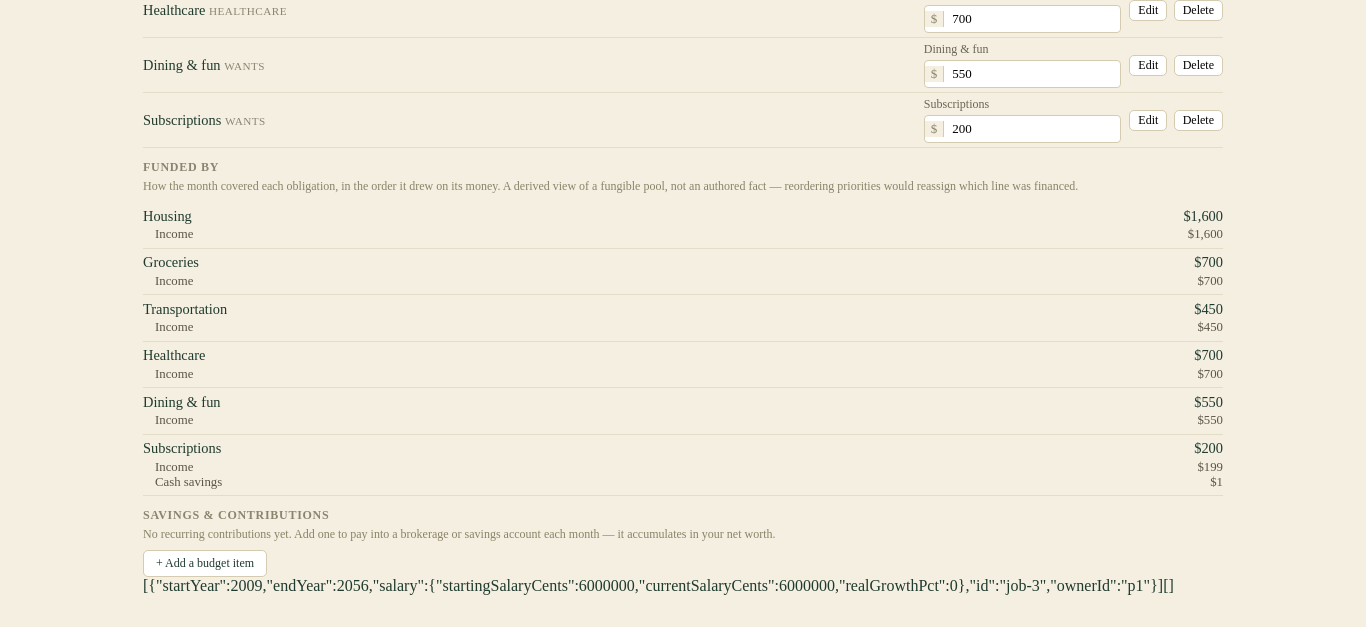
Test case: BaseAdjustmentsPanel — add / edit / delete budget items › adds a contribution line into an account, shown under Savings & contributions
(page scrolled)
expect the text "No recurring contributions yet" is shown: met, box [143,528,776,542]
Click the button "+ Add a budget item".
click(205, 564)  # box [143,550,267,578]
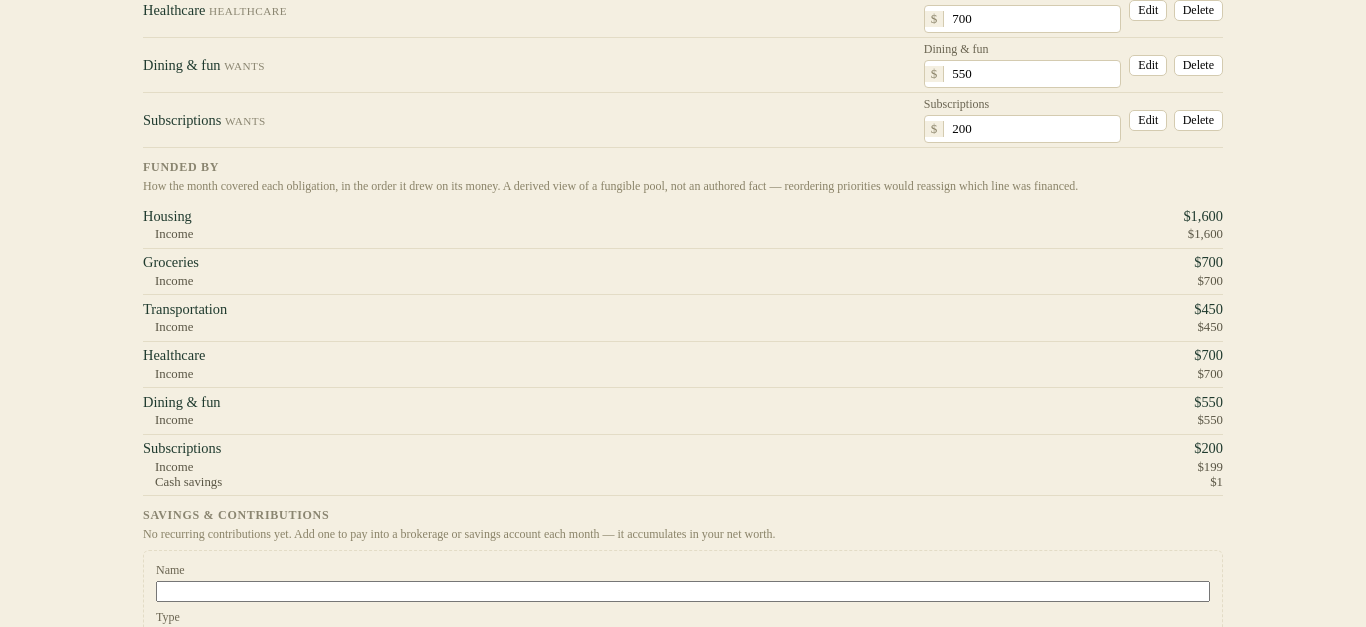
Type "Auto-invest" into the field labelled "Name".
click(683, 592); type("Auto-invest")  # box [156,582,1210,602]
(page scrolled)
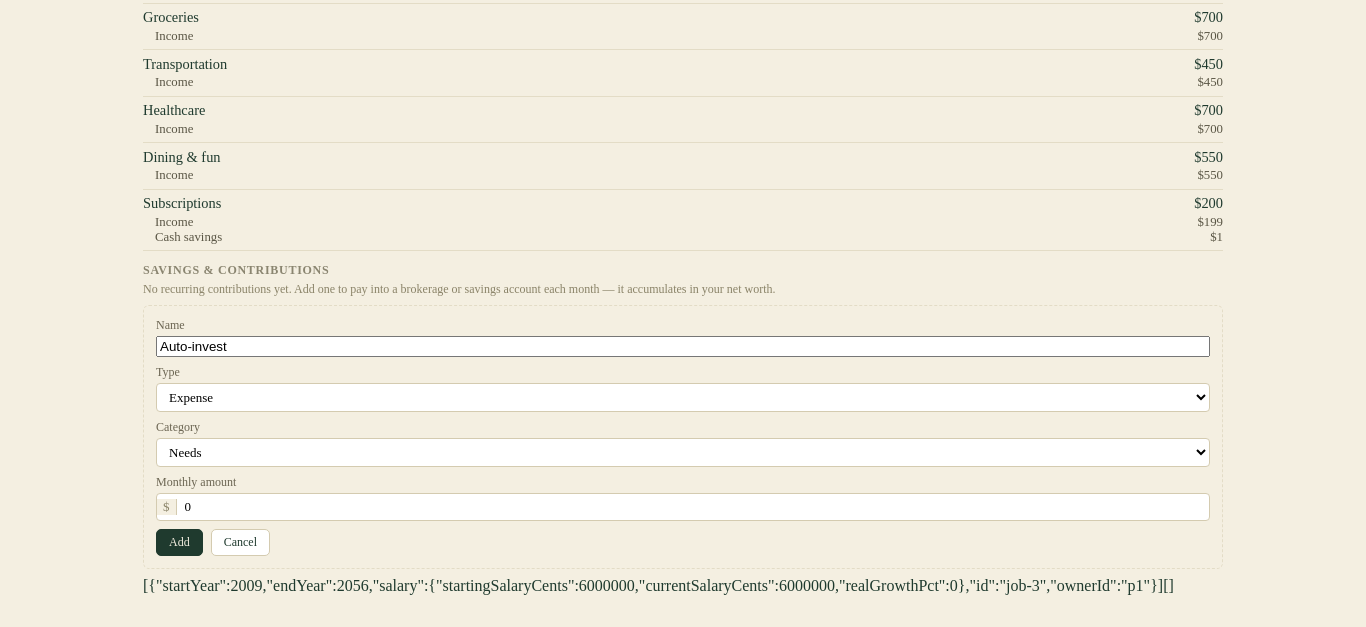
Select "Contribution (into an account)" in the dropdown named "Item type" at (683, 398), box [156,384,1210,412]
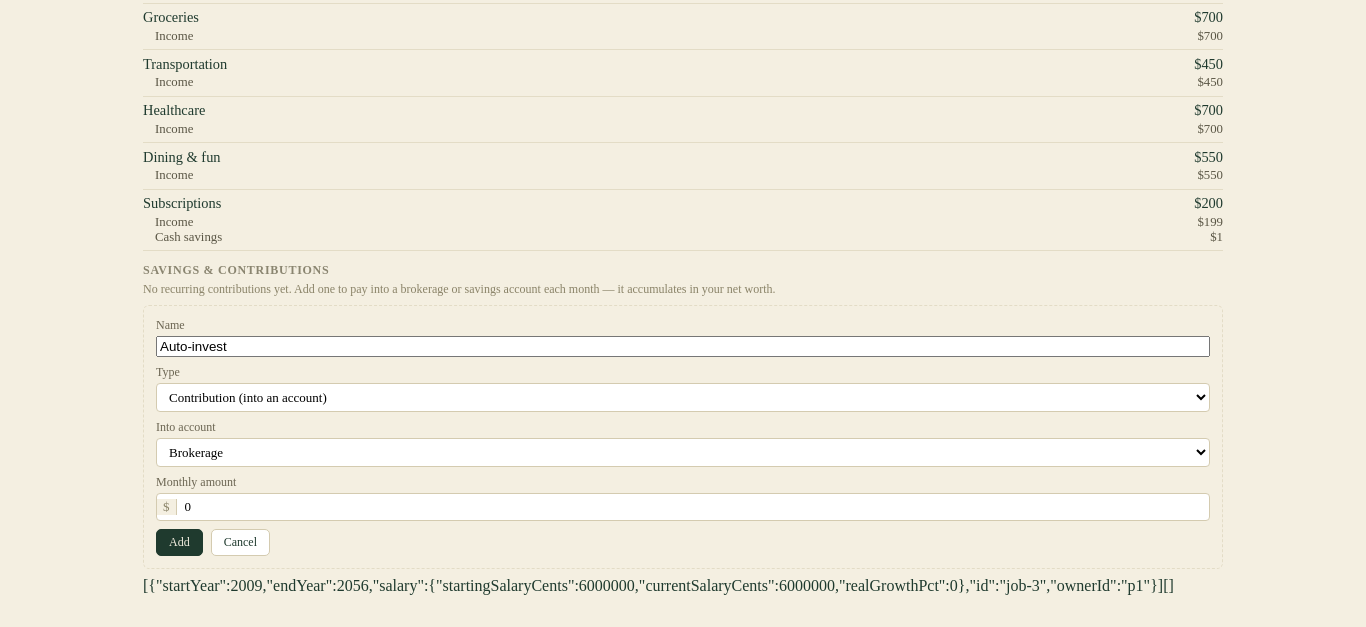
Replace the text in the number field labelled "Monthly amount $" with "500" at (693, 508), box [176,494,1209,520]
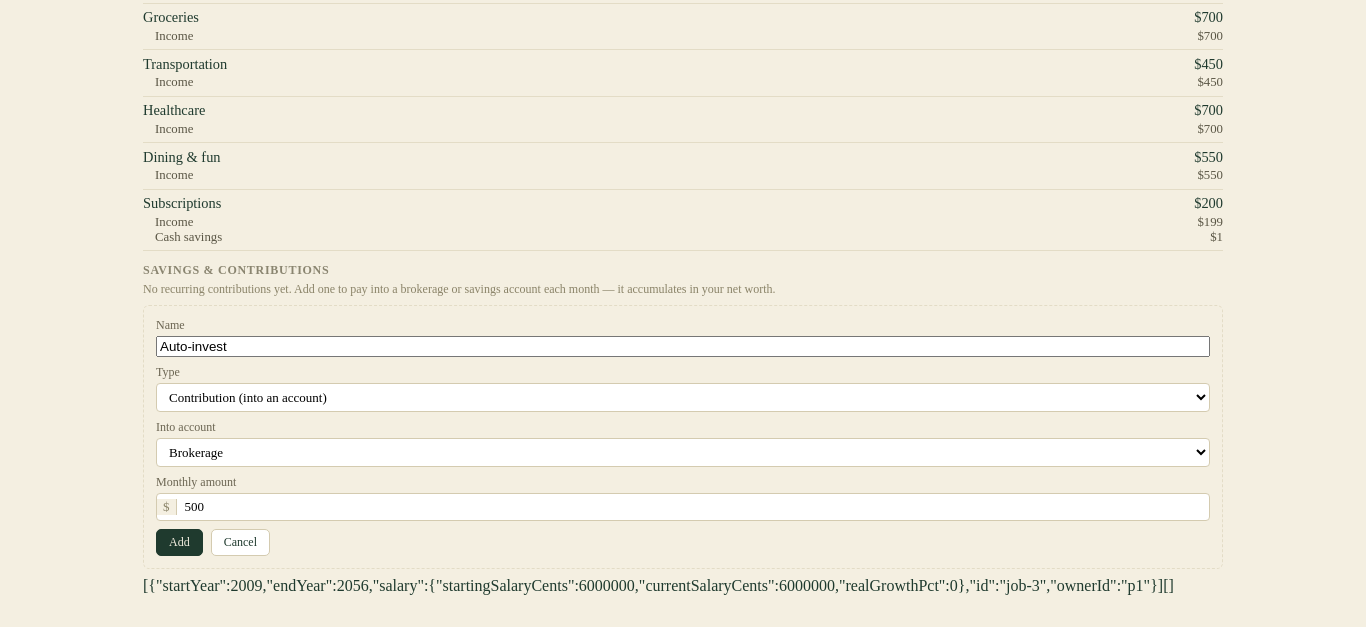
Click the button "Add".
click(179, 543)  # box [156,530,203,556]
(page scrolled)
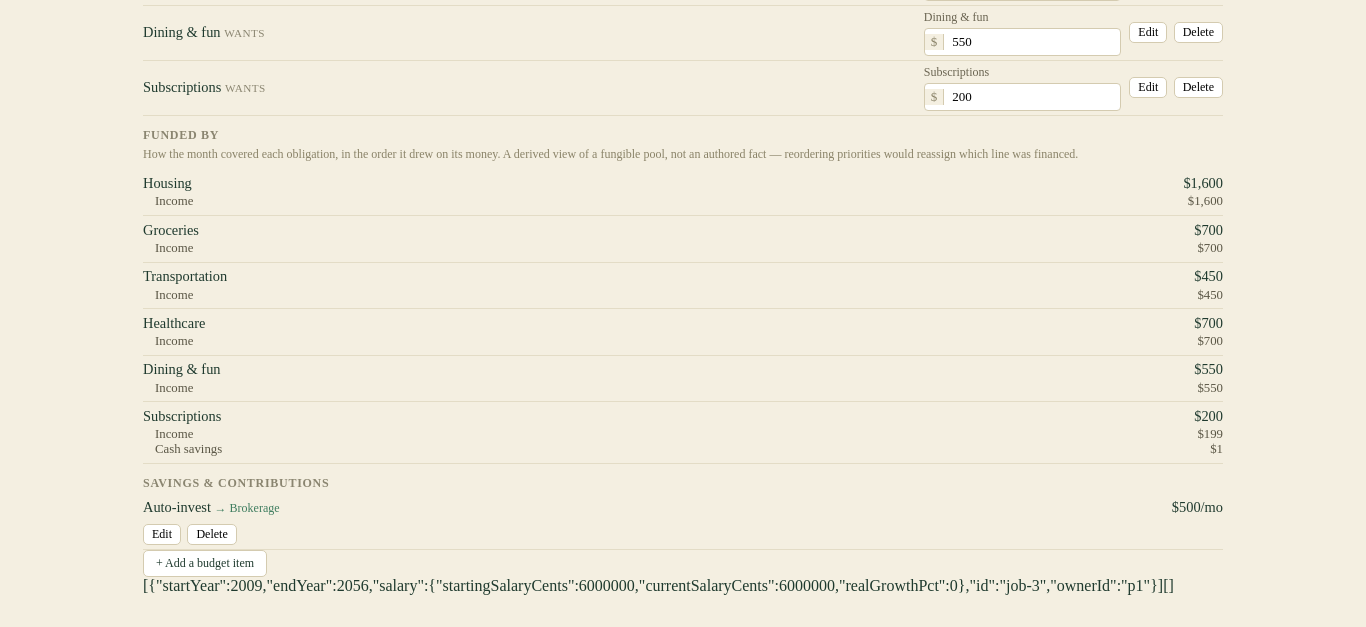
expect the text "Auto-invest" shows "Brokerage": met, box [230,501,280,515]
expect the button with aria-label "Delete Auto-invest" is shown: met, box [187,524,237,545]
